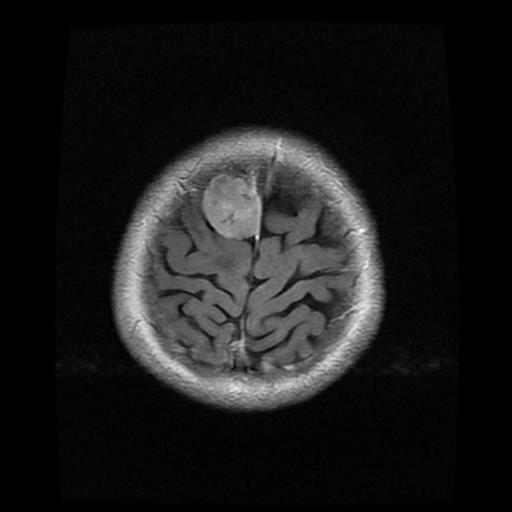Tumour-Meningioma: (190, 180, 285, 255)
